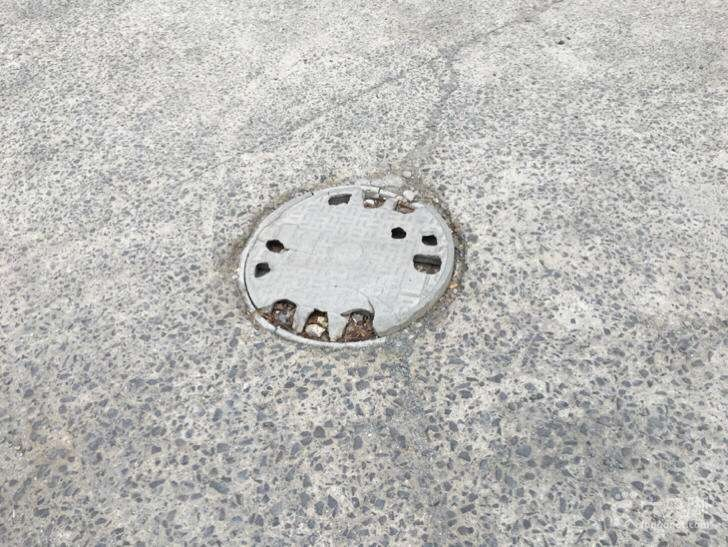broke: (239, 183, 456, 348)
